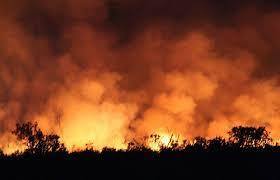fire: (66, 122, 121, 151), (154, 130, 171, 146)
smoke: (29, 64, 120, 100), (166, 52, 225, 98)
